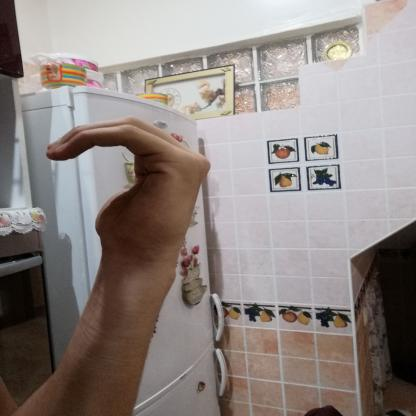HAA: (26, 108, 235, 278)
